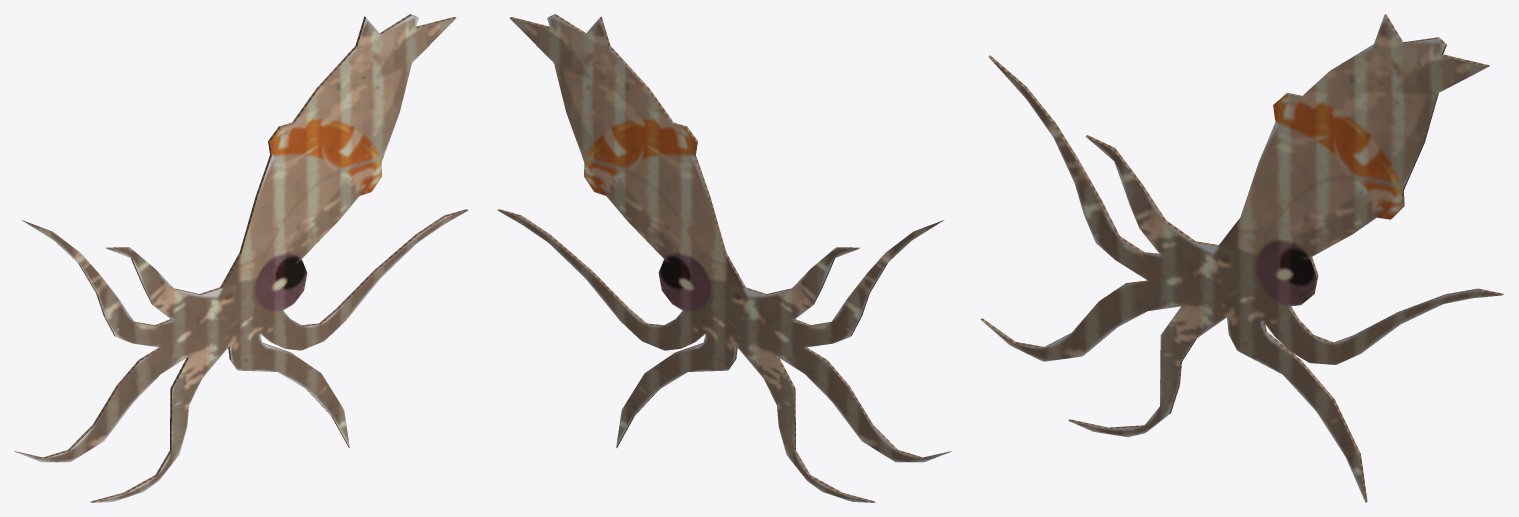
The model's file is SM_Octopus.fbx.
3 views of the same model, side by side, from view 1: azimuth 30°, elevation 25°; view 2: azimuth 150°, elevation 25°; view 3: azimuth 330°, elevation 25° (orthographic). The views are drawn at different scales.
Visible parts, largest first — view 1: SM_Octopus; view 2: SM_Octopus; view 3: SM_Octopus.
Boxes of the visible parts, x1,y1,x2,y2 form: SM_Octopus: [14, 14, 468, 502]; SM_Octopus: [497, 14, 951, 502]; SM_Octopus: [980, 14, 1503, 502].
Size of the model in its own units: 1543 by 1390 by 9.95.
